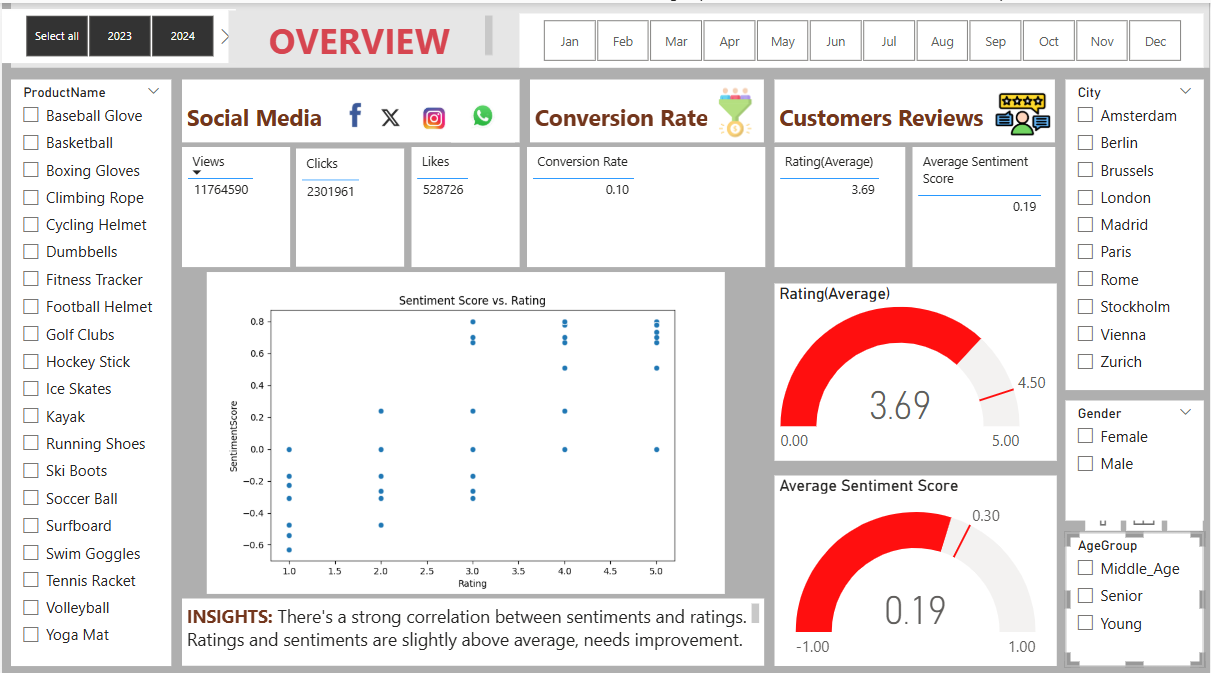

The dashboard page shown, as its layout file describes it:
{"tool":"powerbi","page":{"name":"Overview","canvas":[1280,720],"ordinal":1},"visuals":[{"type":"textbox","box":[9.5,0,1270.9,68.4],"z":0},{"type":"slicer","fields":{"Values":["products.ProductName"]},"box":[9.5,81.1,170.2,621.9],"z":1000},{"type":"textbox","box":[190.9,81.1,357.9,66.8],"z":2000},{"type":"slicer","fields":{"Values":["customers.AgeGroup"]},"box":[1127.7,561.5,146.3,141.6],"z":3000},{"type":"slicer","fields":{"Values":["geography.City"]},"box":[1127.7,81.1,146.3,329.3],"z":4000},{"type":"slicer","fields":{"Values":["customers.Gender"]},"box":[1127.7,421.5,146.3,127.2],"z":5000},{"type":"slicer","fields":{"Values":["Calendar.Year"]},"box":[0,6.4,248.1,57.3],"z":6000},{"type":"slicer","fields":{"Values":["Calendar.MonthNameShort"]},"box":[548.8,11.1,725.3,57.3],"z":7000},{"type":"textbox","box":[240.2,8,284.7,55.7],"z":8000},{"type":"image","box":[389.7,77.9,44.5,87.5],"z":9000},{"type":"image","box":[348.3,77.9,41.4,81.1],"z":10000},{"type":"image","box":[434.2,97,47.7,50.9],"z":11000},{"type":"image","box":[470.8,85.9,77.9,66.8],"z":12000},{"type":"tableEx","fields":{"Values":["Calculations.Views"]},"box":[190.9,152.7,114.5,127.2],"z":13000},{"type":"tableEx","fields":{"Values":["Calculations.Clicks"]},"box":[311.8,154.3,114.5,125.7],"z":14000},{"type":"tableEx","fields":{"Values":["Calculations.Likes"]},"box":[434.2,152.7,114.5,127.2],"z":15000},{"type":"textbox","box":[559.9,81.1,248.1,66.8],"z":16000},{"type":"textbox","box":[819.2,81.1,297.4,66.8],"z":17000},{"type":"image","box":[720.5,81.1,114.5,70],"z":18000},{"type":"image","box":[1048.2,76.3,68.4,82.7],"z":19000},{"type":"tableEx","fields":{"Values":["Calculations.Conversion Rate"]},"box":[556.7,152.7,252.9,127.2],"z":20000},{"type":"tableEx","fields":{"Values":["Calculations.Rating(Average)"]},"box":[819.2,152.7,138.4,127.2],"z":21000},{"type":"tableEx","fields":{"Values":["Calculations.Average Sentiment Score"]},"box":[965.5,152.7,151.1,127.2],"z":22000},{"type":"gauge","fields":{"Y":["Calculations.Rating(Average)"]},"box":[819.2,297.4,299,187.7],"z":23000},{"type":"textbox","box":[190.9,631.5,617.2,71.6],"z":24000},{"type":"gauge","fields":{"Y":["Calculations.Average Sentiment Score"]},"box":[819.2,501,299,202],"z":25000},{"type":"image","box":[122.5,279.9,738,351.5],"z":26000}]}

Visuals, with their boxes in screenshot pixels (x1, y1, x2, y2), scaled from the page's 1280x720 canvas onto the 1211x673 screenshot:
textbox: <bbox>9, 0, 1210, 64</bbox>
slicer - products.ProductName: <bbox>9, 76, 170, 657</bbox>
textbox: <bbox>181, 76, 519, 138</bbox>
slicer - customers.AgeGroup: <bbox>1067, 525, 1205, 657</bbox>
slicer - geography.City: <bbox>1067, 76, 1205, 384</bbox>
slicer - customers.Gender: <bbox>1067, 394, 1205, 513</bbox>
slicer - Calendar.Year: <bbox>0, 6, 235, 60</bbox>
slicer - Calendar.MonthNameShort: <bbox>519, 10, 1205, 64</bbox>
textbox: <bbox>227, 7, 497, 60</bbox>
image: <bbox>369, 73, 411, 155</bbox>
image: <bbox>330, 73, 369, 149</bbox>
image: <bbox>411, 91, 456, 138</bbox>
image: <bbox>445, 80, 519, 143</bbox>
tableEx - Calculations.Views: <bbox>181, 143, 289, 262</bbox>
tableEx - Calculations.Clicks: <bbox>295, 144, 403, 262</bbox>
tableEx - Calculations.Likes: <bbox>411, 143, 519, 262</bbox>
textbox: <bbox>530, 76, 764, 138</bbox>
textbox: <bbox>775, 76, 1056, 138</bbox>
image: <bbox>682, 76, 790, 141</bbox>
image: <bbox>992, 71, 1056, 149</bbox>
tableEx - Calculations.Conversion Rate: <bbox>527, 143, 766, 262</bbox>
tableEx - Calculations.Rating(Average): <bbox>775, 143, 906, 262</bbox>
tableEx - Calculations.Average Sentiment Score: <bbox>913, 143, 1056, 262</bbox>
gauge - Calculations.Rating(Average): <bbox>775, 278, 1058, 453</bbox>
textbox: <bbox>181, 590, 765, 657</bbox>
gauge - Calculations.Average Sentiment Score: <bbox>775, 468, 1058, 657</bbox>
image: <bbox>116, 262, 814, 590</bbox>
